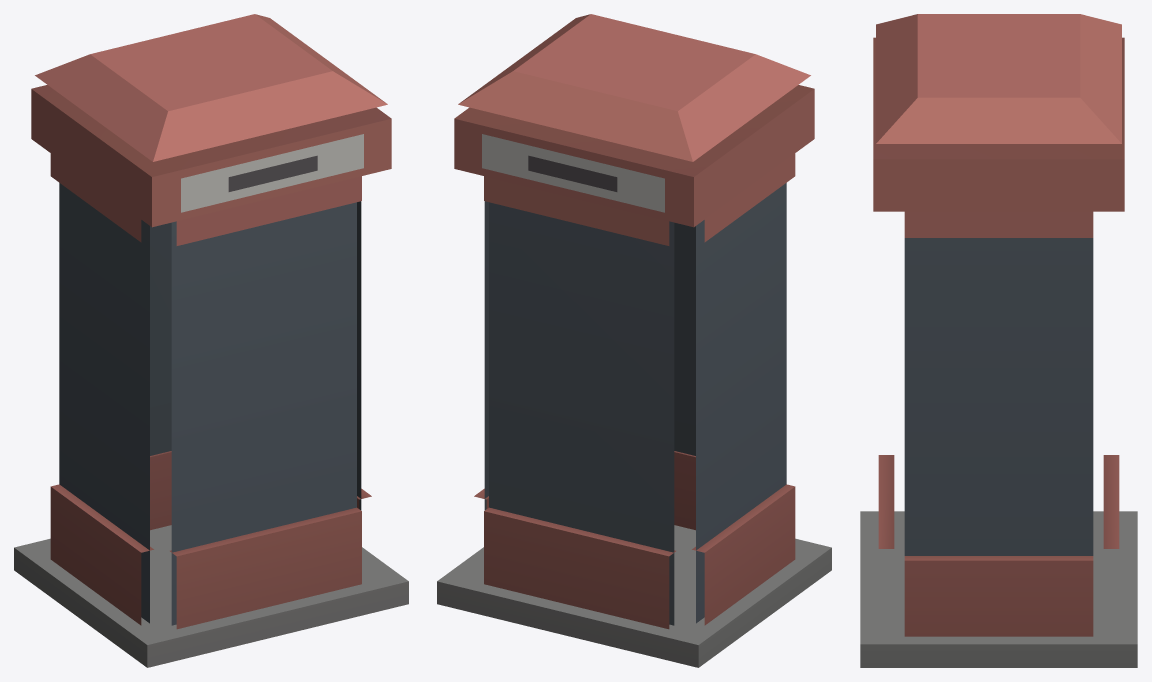
Rendered from phone.lod2.glb.
The picture shows the model from 3 angles, left to right: view 1: azimuth 30°, elevation 25°; view 2: azimuth 150°, elevation 25°; view 3: azimuth 270°, elevation 25°; orthographic projection. The views are drawn at different scales.
Size of the model in its own units: 1.2 by 2.3 by 1.06.
